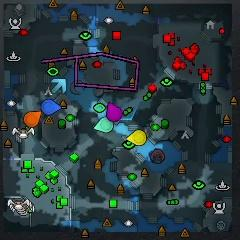p1: (41, 99, 61, 116)
p2: (93, 117, 114, 133)
p3: (106, 102, 123, 122)
p4: (127, 130, 147, 146)
p5: (24, 111, 42, 127)
x3: (51, 78, 66, 94)
